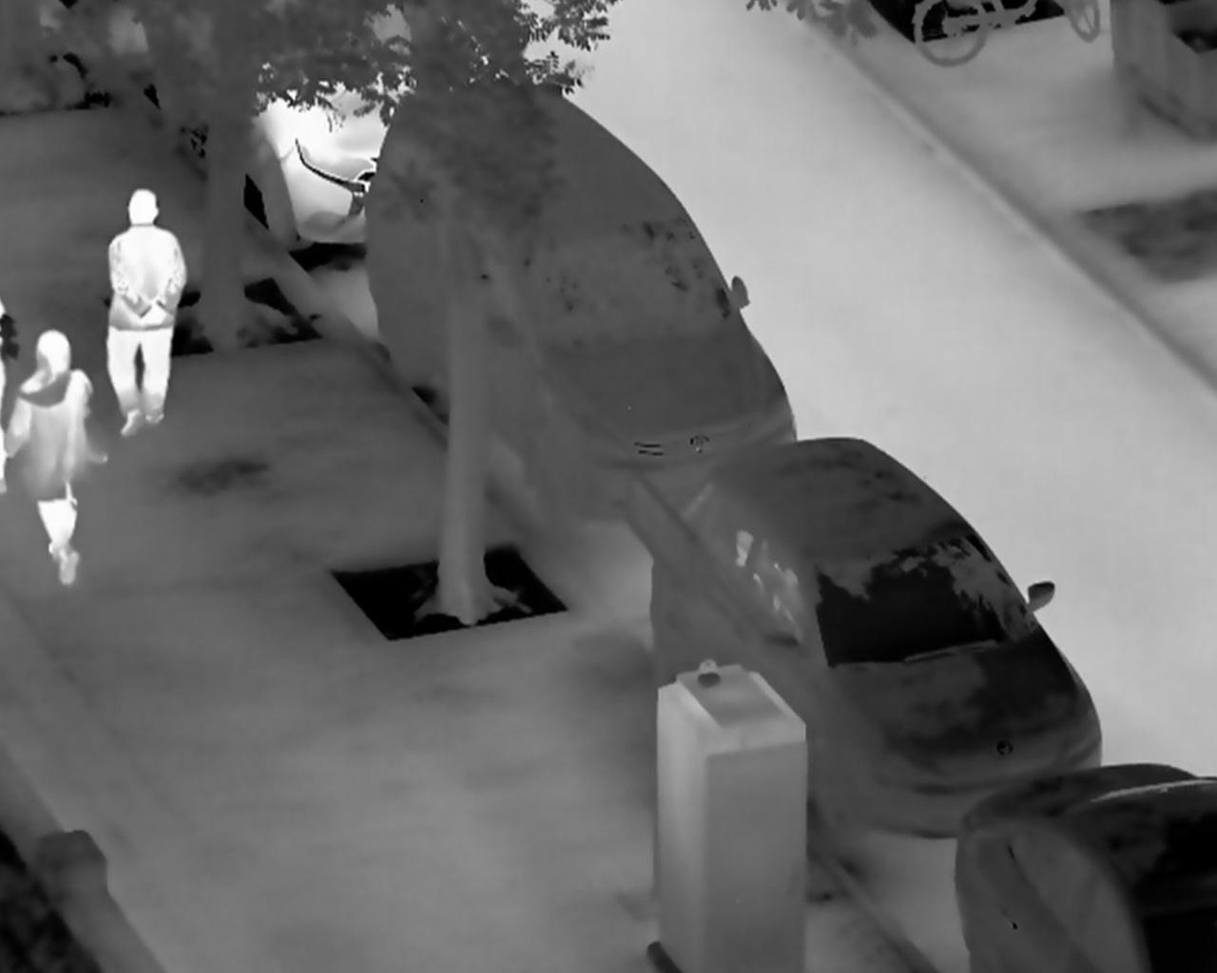person: (9, 324, 94, 588), (106, 187, 190, 436)
